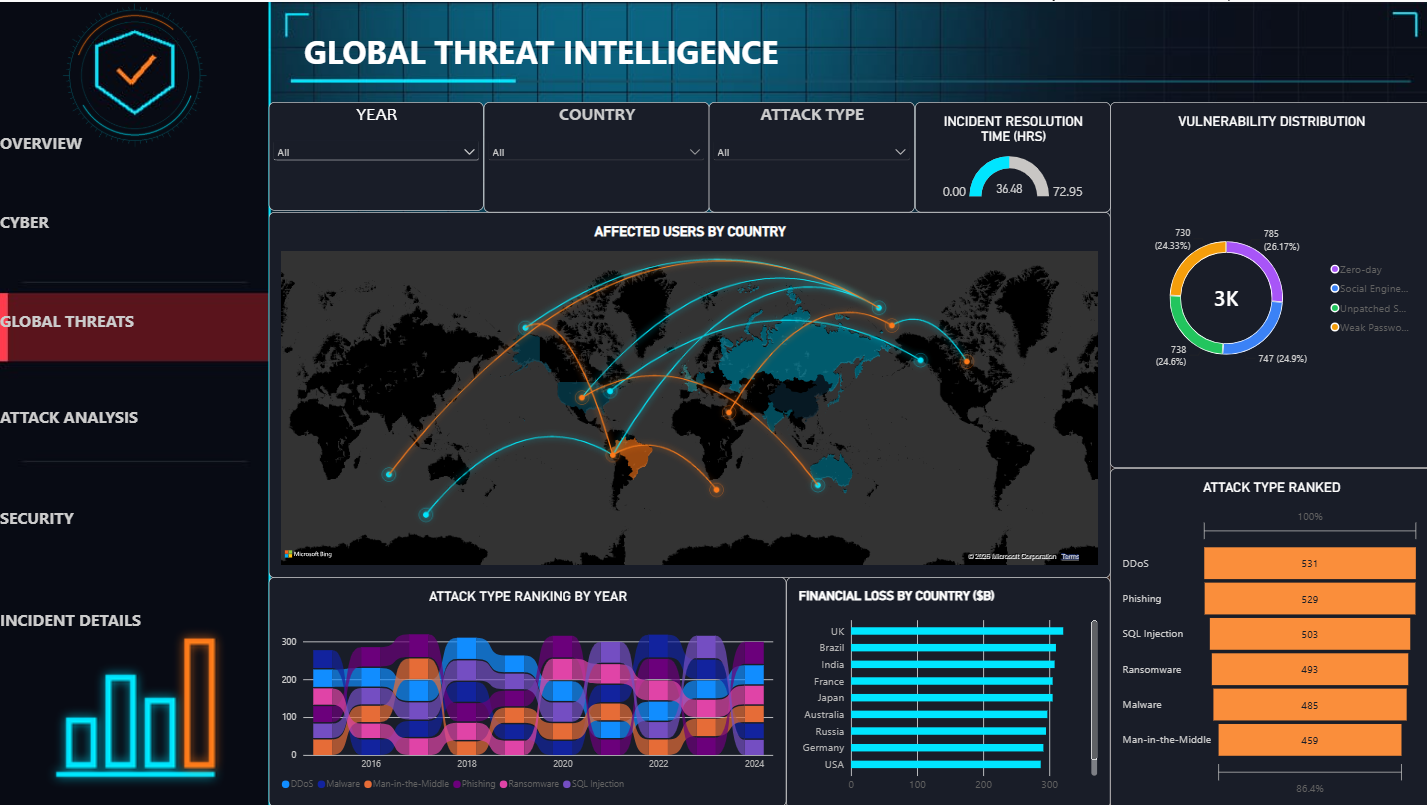

Layout of this report page (visuals, bound fields, positions):
{"tool":"powerbi","page":{"name":"Global Threat Intelligence","canvas":[1920,1080],"ordinal":1},"visuals":[{"type":"textbox","box":[0,174,358,106],"z":0},{"type":"clusteredBarChart","title":"FINANCIAL LOSS BY COUNTRY ($B)","fields":{"Category":["Global_Cybersecurity_Threats_2015-2024.Country"],"Y":["CountNonNull(Global_Cybersecurity_Threats_2015-2024.Financial Loss (in Million $))"]},"box":[1054,770,434,310],"z":1000},{"type":"textbox","box":[0,280,358,132],"z":2000},{"type":"filledMap","title":"AFFECTED USERS BY COUNTRY","fields":{"Category":["Global_Cybersecurity_Threats_2015-2024.Country"]},"box":[360,282,1128,490],"z":3000},{"type":"textbox","box":[0,412.4,358,142.5],"z":4000},{"type":"donutChart","title":"VULNERABILITY DISTRIBUTION","fields":{"Category":["Global_Cybersecurity_Threats_2015-2024.Security Vulnerability Type"],"Y":["CountNonNull(Global_Cybersecurity_Threats_2015-2024.Security Vulnerability Type)"]},"box":[1488,134,432,490],"z":5000},{"type":"textbox","box":[0,541.4,358,134.8],"z":6000},{"type":"textbox","box":[290,0,1496,134],"z":7000},{"type":"textbox","box":[0,676.2,358,136.7],"z":8000},{"type":"slicer","title":"YEAR","fields":{"Values":["Global_Cybersecurity_Threats_2015-2024.Year"]},"box":[360.8,133.8,287.9,145.7],"z":9000},{"type":"textbox","box":[0,812.9,358,127.1],"z":10000},{"type":"slicer","title":"COUNTRY","fields":{"Values":["Global_Cybersecurity_Threats_2015-2024.Country"]},"box":[648,134,302,148],"z":11000},{"type":"slicer","title":"ATTACK TYPE","fields":{"Values":["Global_Cybersecurity_Threats_2015-2024.Attack Type"]},"box":[950,134,276,148],"z":12000},{"type":"gauge","title":"INCIDENT RESOLUTION TIME (HRS)","fields":{"Y":["Avg(Global_Cybersecurity_Threats_2015-2024.Incident Resolution Time (in Hours))"]},"box":[1226,134,262,148],"z":13000},{"type":"funnel","title":"ATTACK TYPE RANKED","fields":{"Category":["Global_Cybersecurity_Threats_2015-2024.Attack Type"],"Y":["CountNonNull(Global_Cybersecurity_Threats_2015-2024.Attack Type)"]},"box":[1488,624,432,456],"z":14000},{"type":"ribbonChart","title":"ATTACK TYPE RANKING BY YEAR","fields":{"Category":["Global_Cybersecurity_Threats_2015-2024.Year"],"Y":["CountNonNull(Global_Cybersecurity_Threats_2015-2024.Attack Type)"],"Series":["Global_Cybersecurity_Threats_2015-2024.Attack Type"]},"box":[360,770,693.3,308.3],"z":15000},{"type":"image","box":[360,326,1108,428],"z":16000},{"type":"image","box":[20,0,320,196],"z":17000},{"type":"image","box":[2,796,358,282],"z":18000}]}

Visuals, with their boxes on the page's 1920x1080 design canvas (x1, y1, x2, y2). These are canvas units, not pixel positions in the 1427x805 screenshot, which may show the page scaled, cropped or inside an application window:
textbox: {"x1": 0, "y1": 174, "x2": 358, "y2": 280}
"FINANCIAL LOSS BY COUNTRY ($B)" clusteredBarChart: {"x1": 1054, "y1": 770, "x2": 1488, "y2": 1080}
textbox: {"x1": 0, "y1": 280, "x2": 358, "y2": 412}
"AFFECTED USERS BY COUNTRY" filledMap: {"x1": 360, "y1": 282, "x2": 1488, "y2": 772}
textbox: {"x1": 0, "y1": 412, "x2": 358, "y2": 555}
"VULNERABILITY DISTRIBUTION" donutChart: {"x1": 1488, "y1": 134, "x2": 1920, "y2": 624}
textbox: {"x1": 0, "y1": 541, "x2": 358, "y2": 676}
textbox: {"x1": 290, "y1": 0, "x2": 1786, "y2": 134}
textbox: {"x1": 0, "y1": 676, "x2": 358, "y2": 813}
"YEAR" slicer: {"x1": 361, "y1": 134, "x2": 649, "y2": 280}
textbox: {"x1": 0, "y1": 813, "x2": 358, "y2": 940}
"COUNTRY" slicer: {"x1": 648, "y1": 134, "x2": 950, "y2": 282}
"ATTACK TYPE" slicer: {"x1": 950, "y1": 134, "x2": 1226, "y2": 282}
"INCIDENT RESOLUTION TIME (HRS)" gauge: {"x1": 1226, "y1": 134, "x2": 1488, "y2": 282}
"ATTACK TYPE RANKED" funnel: {"x1": 1488, "y1": 624, "x2": 1920, "y2": 1080}
"ATTACK TYPE RANKING BY YEAR" ribbonChart: {"x1": 360, "y1": 770, "x2": 1053, "y2": 1078}
image: {"x1": 360, "y1": 326, "x2": 1468, "y2": 754}
image: {"x1": 20, "y1": 0, "x2": 340, "y2": 196}
image: {"x1": 2, "y1": 796, "x2": 360, "y2": 1078}
